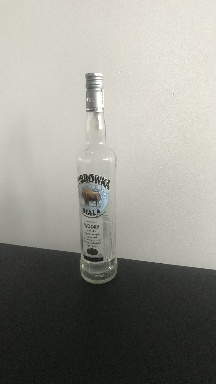butelka: (74, 70, 118, 286)
